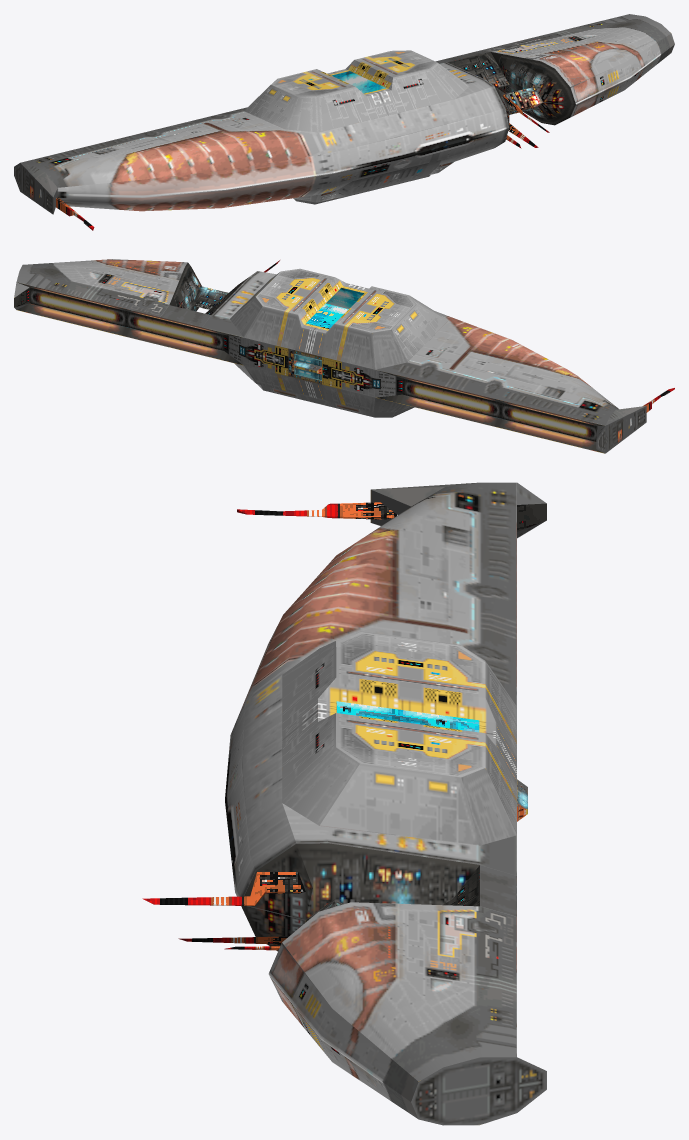
File: Mothership.obj
The picture shows the model from 3 angles, top to bottom: view 1: azimuth 30°, elevation 25°; view 2: azimuth 150°, elevation 25°; view 3: azimuth 270°, elevation 25°; orthographic projection. The views are drawn at different scales.
Visible parts, largest first — view 1: Mothership; view 2: Mothership, Hangardoor; view 3: Mothership.
Boxes of the visible parts, bbox=[...] form: Mothership: bbox=[14, 14, 674, 230]; Mothership: bbox=[14, 259, 674, 453]; Hangardoor: bbox=[257, 384, 414, 417]; Mothership: bbox=[142, 482, 546, 1125].
Bounding box in the file's own units: 7015 × 1156 × 2015.
Materials: 15 (15 with a texture image).
